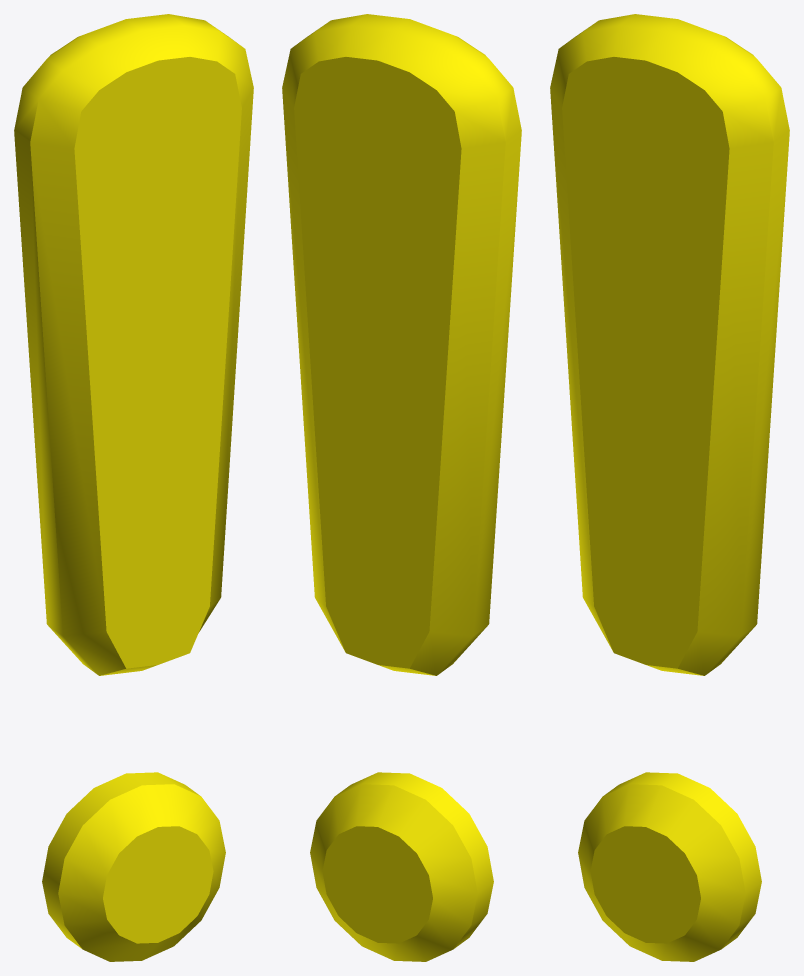
Rendered from quest_mark.fbx.
3 renders of one model, left to right at view 1: azimuth 30°, elevation 25°; view 2: azimuth 150°, elevation 25°; view 3: azimuth 330°, elevation 25°, orthographic.
Visible parts, largest first — view 1: mesh_1058; view 2: mesh_1058; view 3: mesh_1058.
Part boxes in pixels (x1,y1,x2,y2): mesh_1058: [14, 14, 253, 961]; mesh_1058: [282, 14, 521, 961]; mesh_1058: [550, 14, 789, 961].
Bounding box in the file's own units: 4.48 × 17.8 × 1.68.
1 material, 1 textured.
